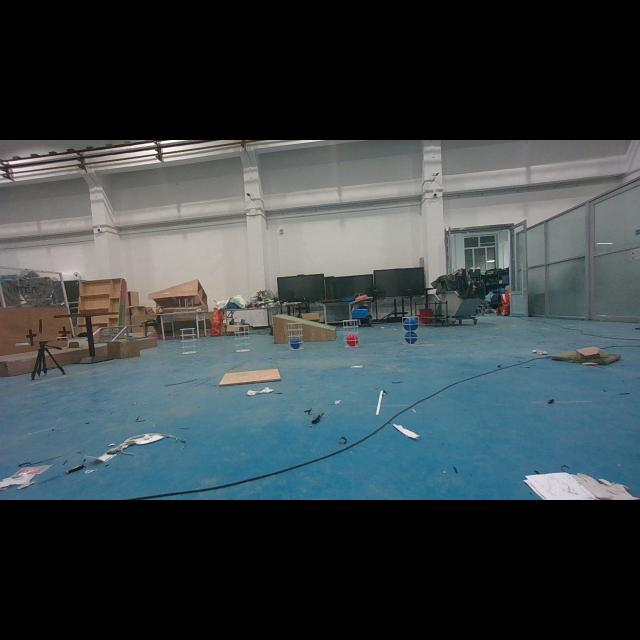B: (403, 317, 419, 331), (404, 332, 418, 343), (288, 338, 302, 348)
R: (345, 335, 359, 347)
S: (232, 324, 254, 356), (341, 318, 362, 350), (401, 315, 422, 347), (178, 326, 200, 356), (284, 326, 306, 350)
